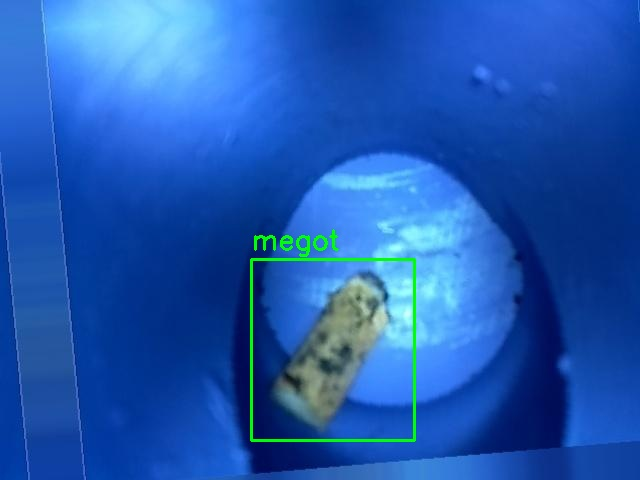megot: (251, 259, 414, 440)
